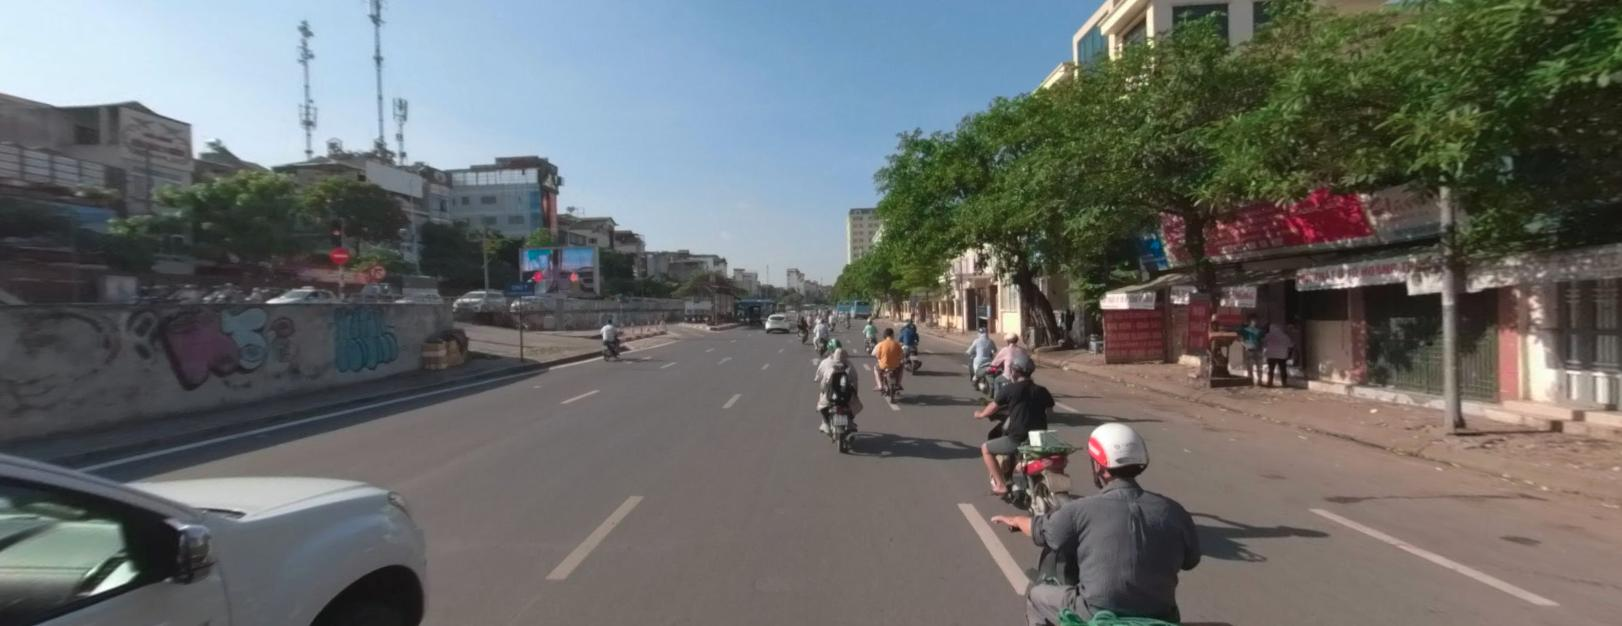Cam nguoc chieu: (329, 244, 348, 262)
Cam re: (369, 262, 386, 278)
